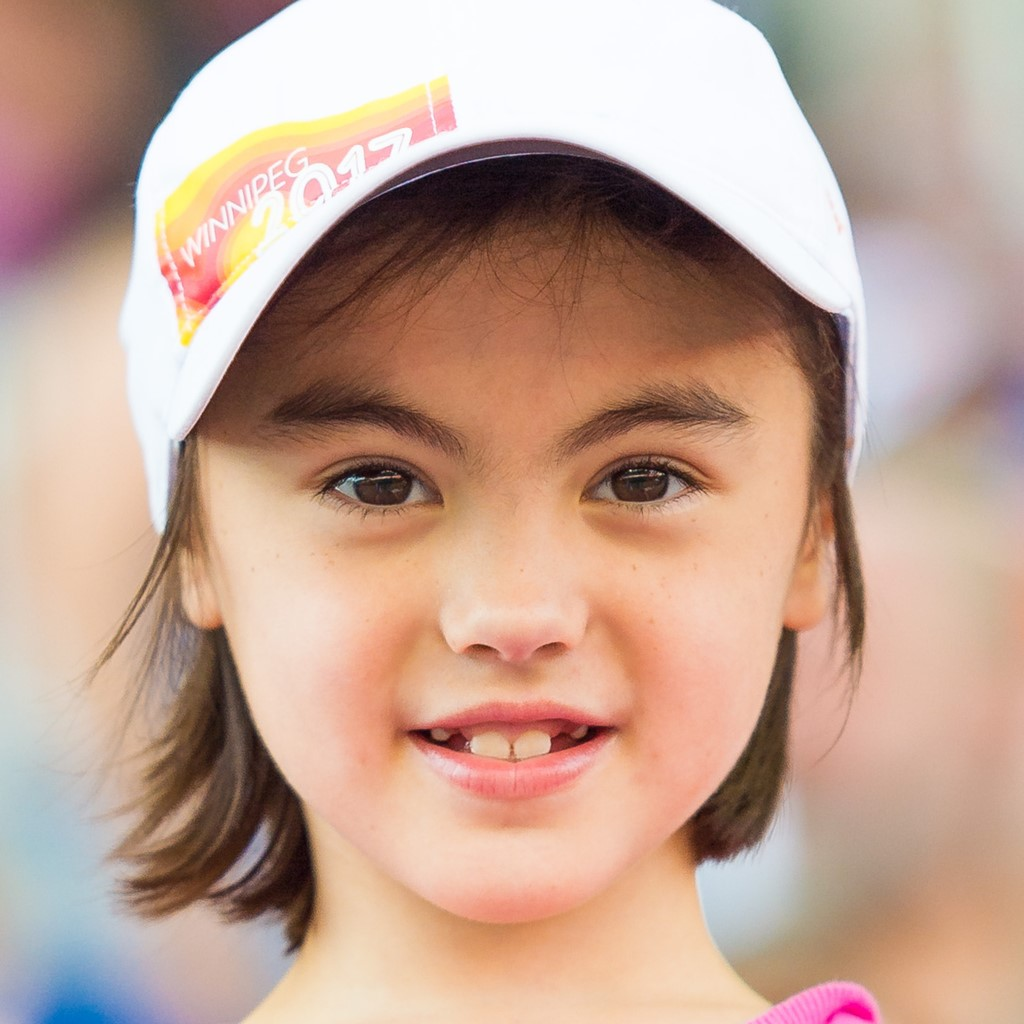sin_mascara: (194, 75, 805, 931)
